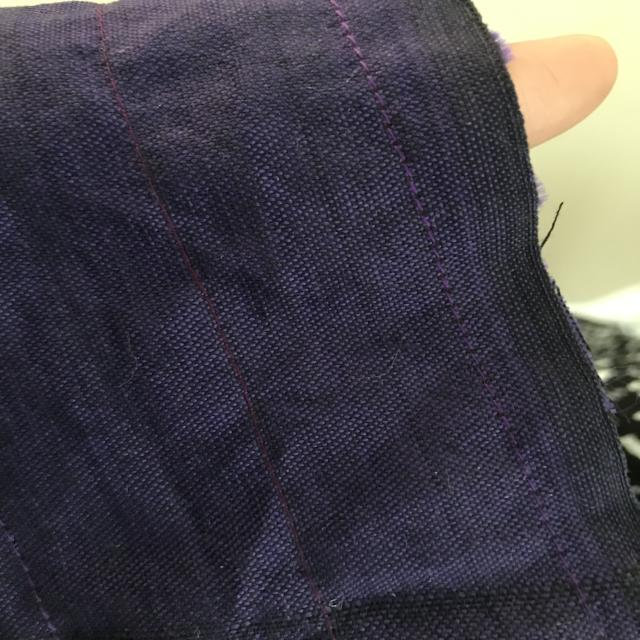good: (341, 51, 421, 172)
